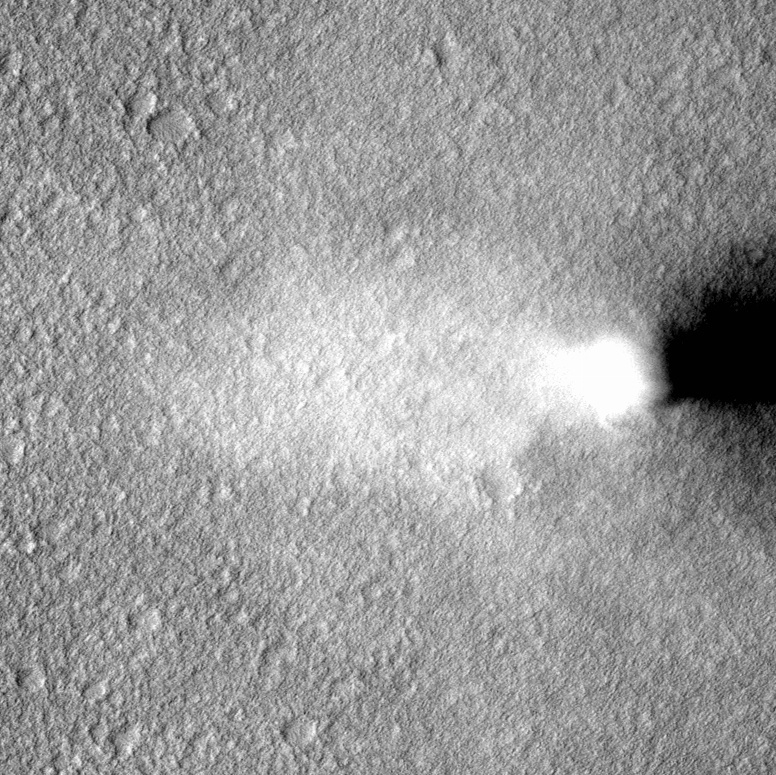dust_devil: (172, 241, 776, 508)
